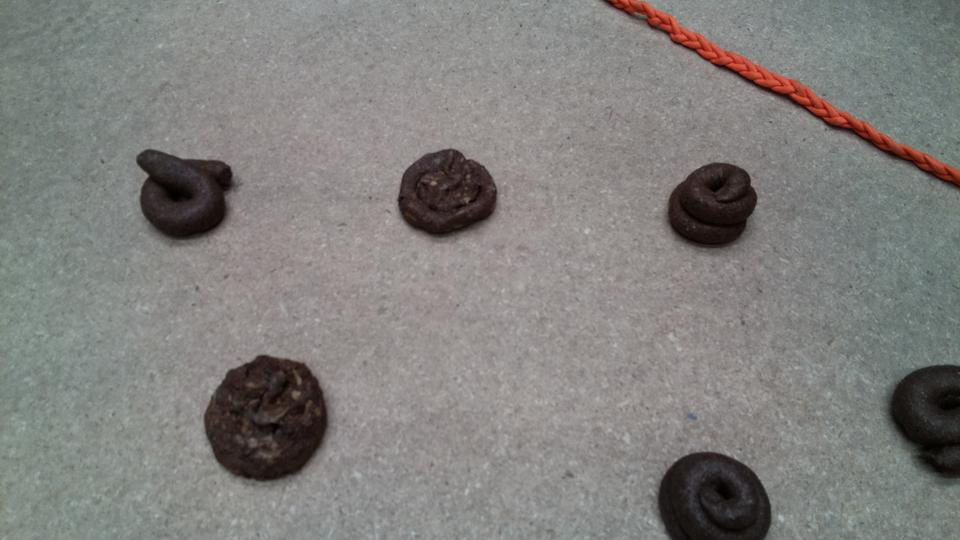poop: (201, 351, 330, 486), (654, 448, 773, 540), (134, 146, 238, 241), (395, 146, 500, 240), (665, 156, 761, 251), (885, 362, 960, 482)
rope: (620, 1, 960, 172)
